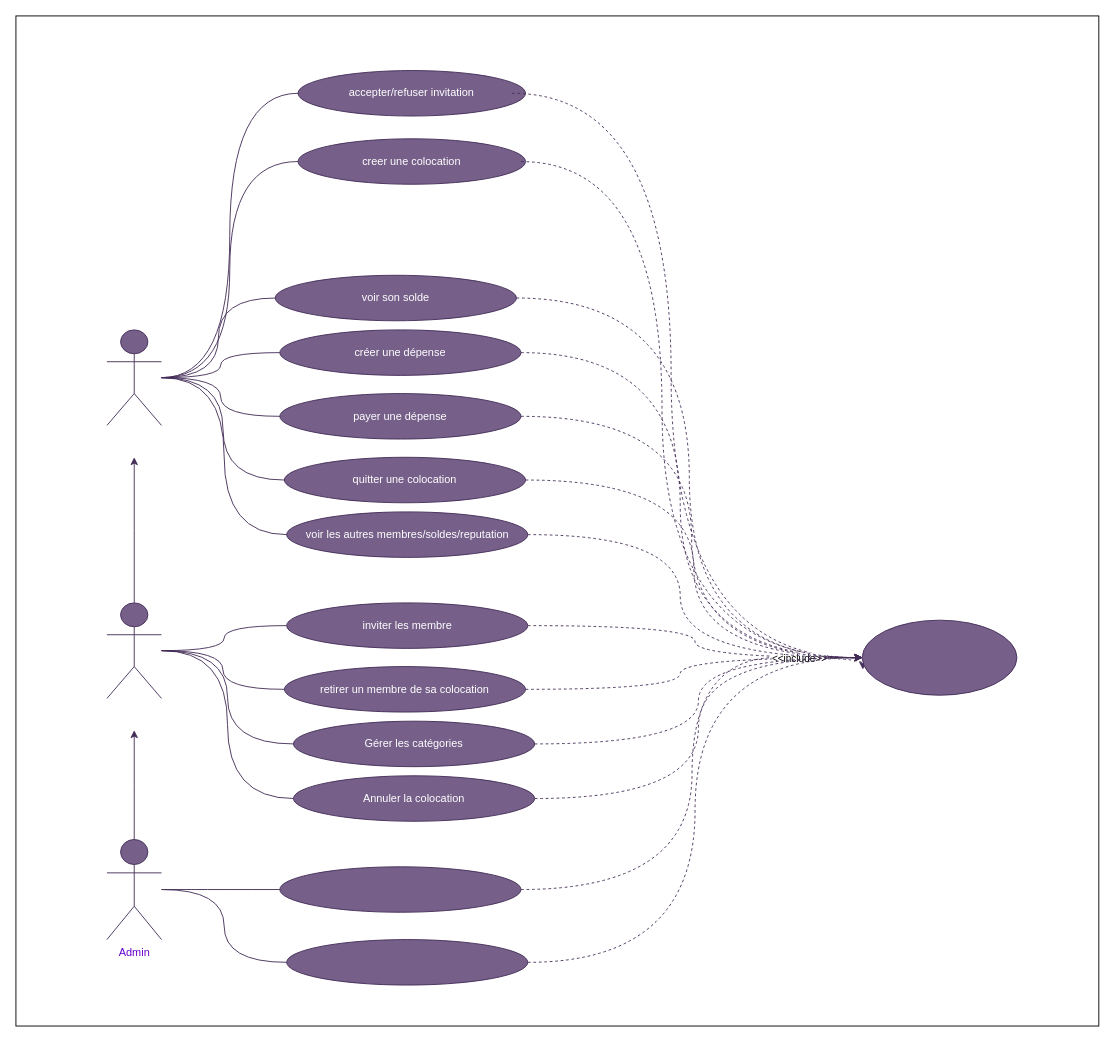
The diagram is 1115 pixels wide and 1042 high, and some of its shapes have lost their labels. Here are the shapes that lost their labels. From the top down, the box of each, then its label:
(106, 329, 162, 425): member
(106, 602, 162, 698): owner
(861, 619, 1017, 695): Authentification
(279, 866, 521, 912): Bannir / débannir utilisateurs
(286, 939, 528, 985): Voir statistiques
